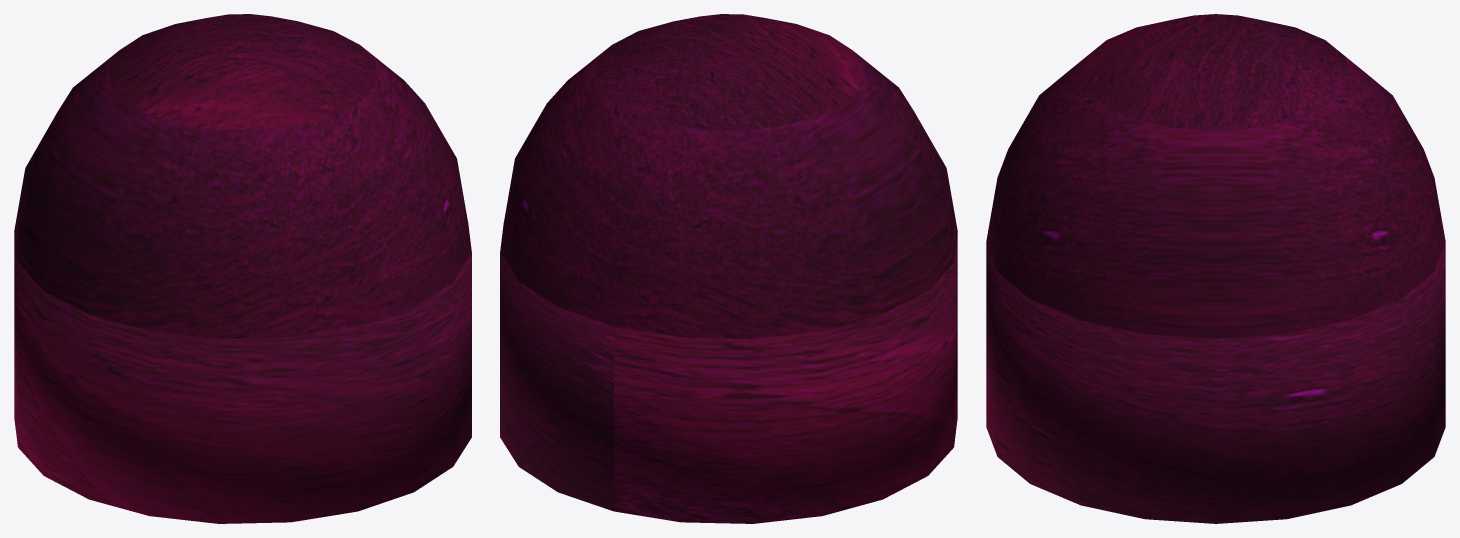
Rendered from 反彈牆粉色沙漠關.fbx.
3 renders of one model, left to right at view 1: azimuth 30°, elevation 25°; view 2: azimuth 150°, elevation 25°; view 3: azimuth 270°, elevation 25°, orthographic.
Visible parts, largest first — view 1: 球體, 圓柱體; view 2: 球體, 圓柱體; view 3: 球體, 圓柱體.
Boxes of the visible parts, box(x1,y1,x2,y2) form: 球體: box(14, 14, 471, 338); 圓柱體: box(14, 222, 471, 523); 球體: box(500, 14, 957, 338); 圓柱體: box(500, 222, 957, 523); 球體: box(986, 14, 1445, 338); 圓柱體: box(986, 242, 1445, 523).
Size of the model in its own units: 180 by 180 by 170.
2 materials, 2 textured.
